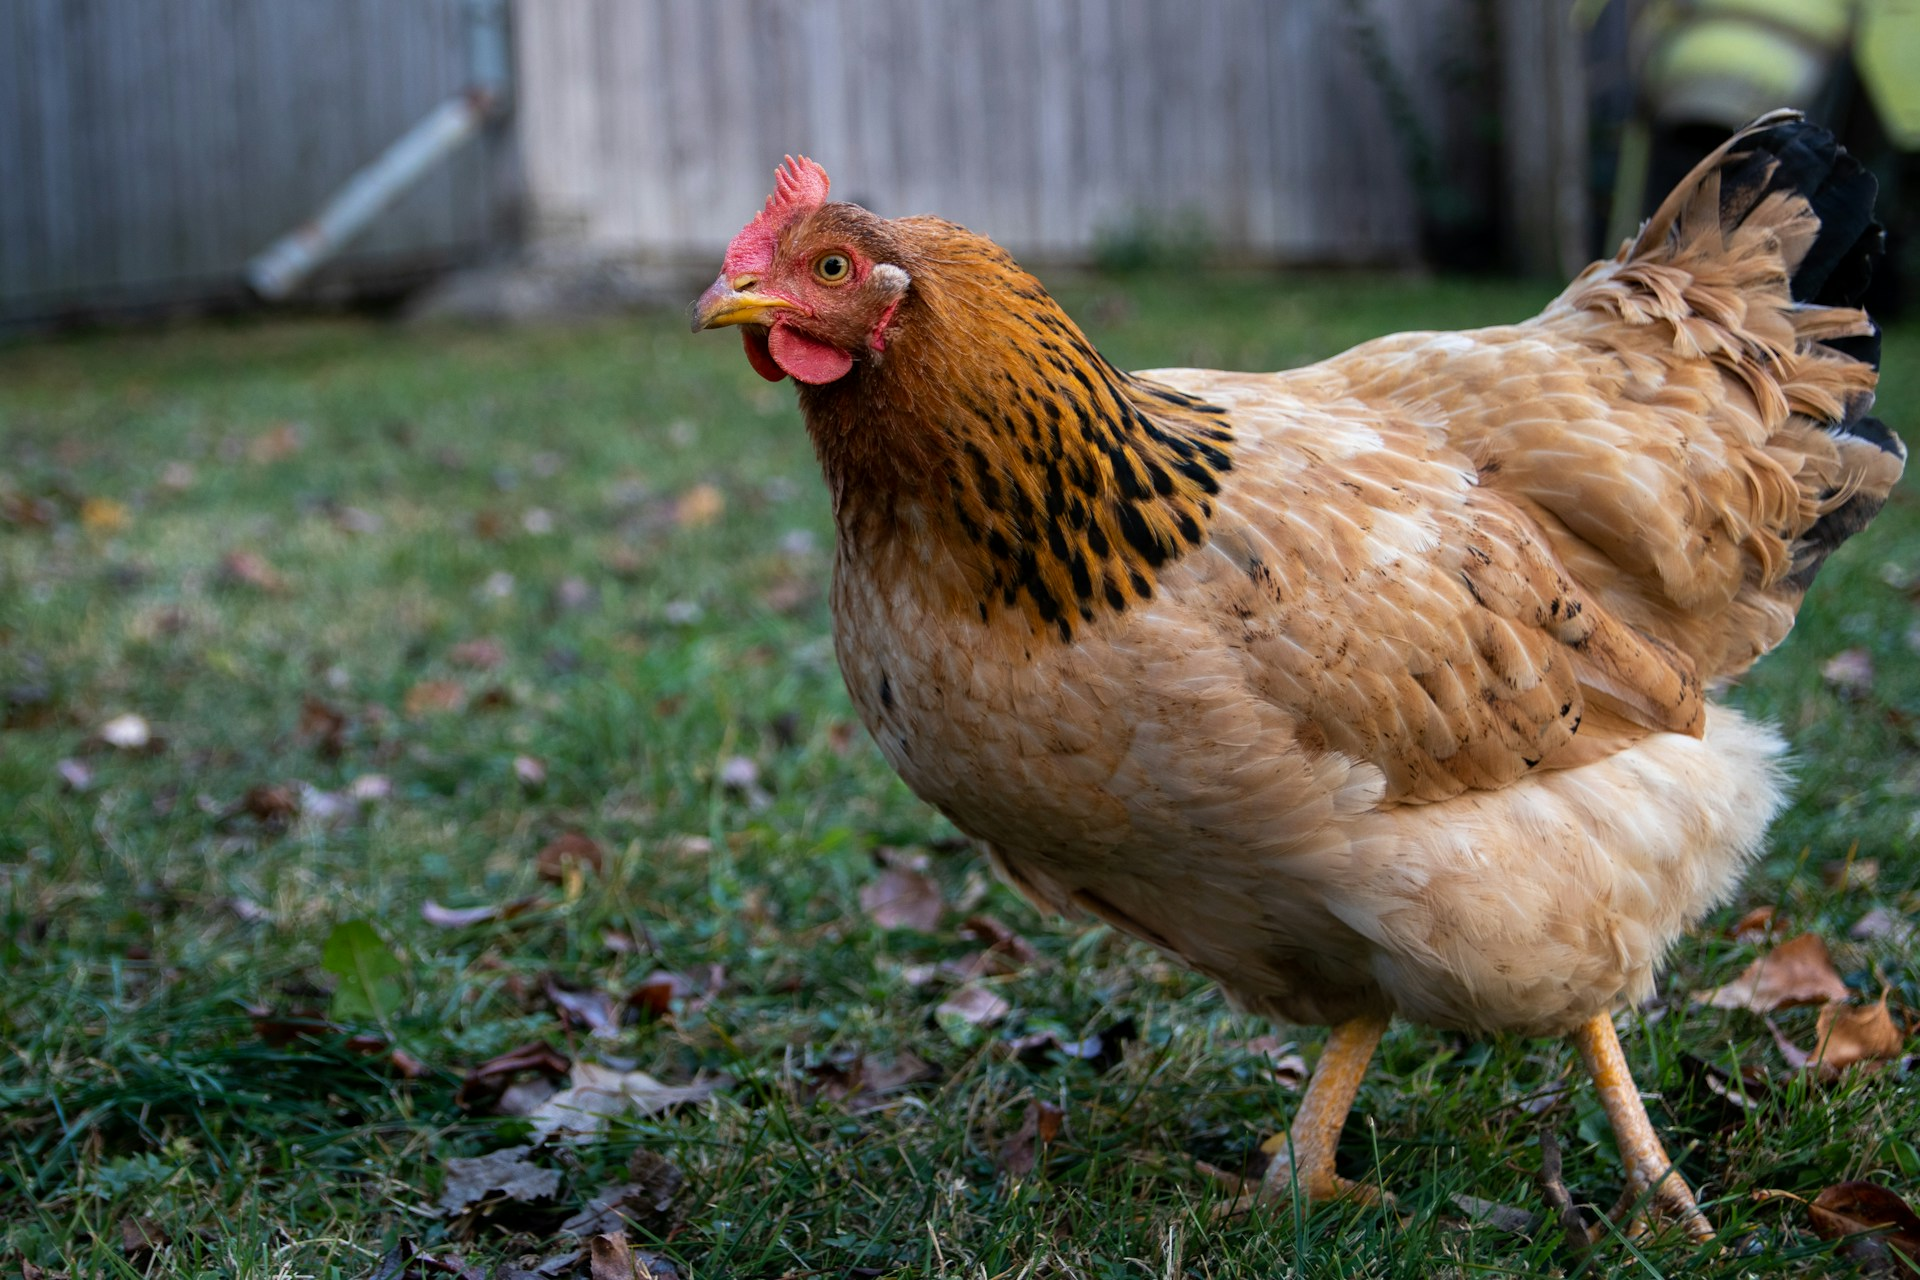hen: (671, 94, 1920, 1280)
